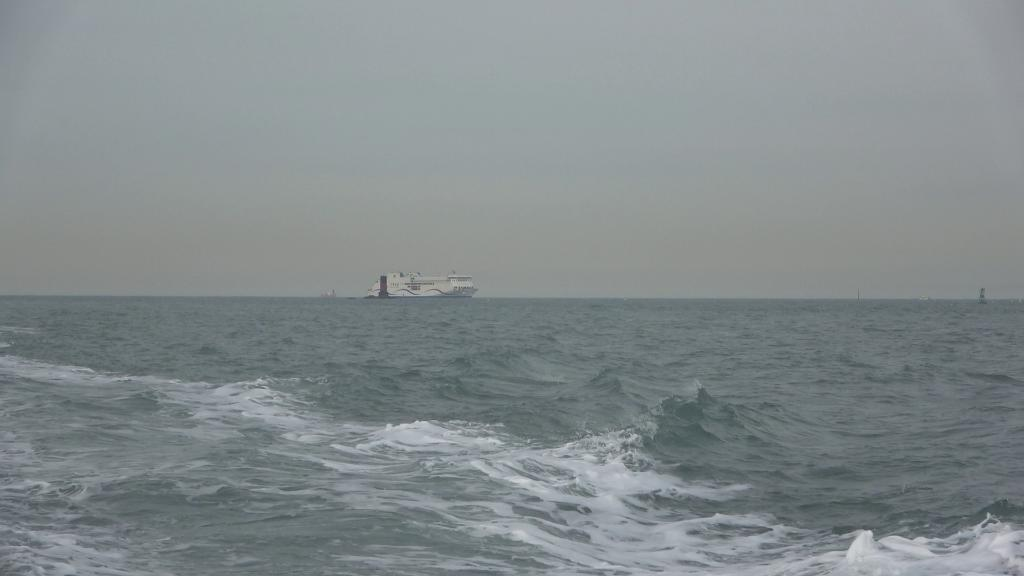PassengerShip: (370, 262, 482, 302)
